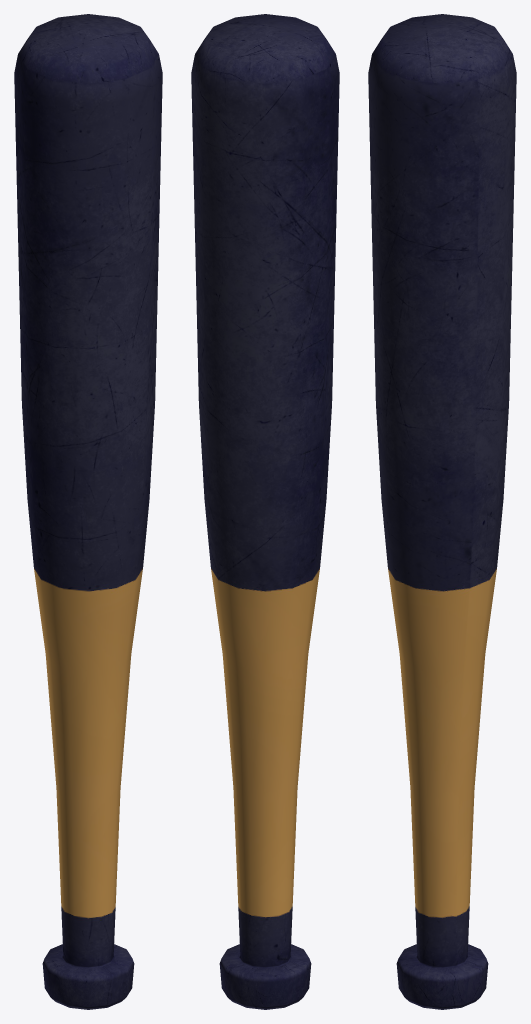
File: GayNangCap_3.fbx
The picture shows the model from 3 angles, left to right: view 1: azimuth 30°, elevation 25°; view 2: azimuth 150°, elevation 25°; view 3: azimuth 270°, elevation 25°; orthographic projection.
Parts seen in each view (by area): view 1: GayNangCap_3; view 2: GayNangCap_3; view 3: GayNangCap_3.
Boxes of the visible parts, x1,y1,x2,y2 form: GayNangCap_3: [14, 14, 162, 1009]; GayNangCap_3: [191, 14, 339, 1009]; GayNangCap_3: [368, 14, 516, 1009].
Size of the model in its own units: 4.88 by 34.9 by 4.88.
Materials: 1 (1 with a texture image).
